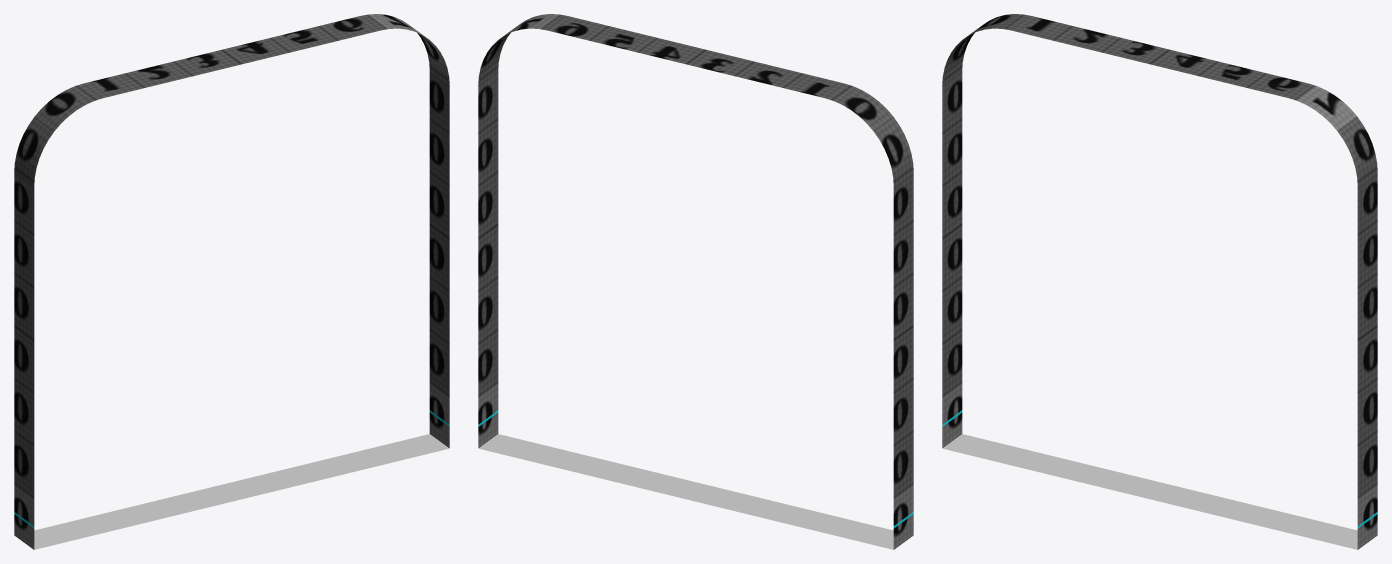
Rendered from WallFrameRound300x300x25cm.FBX.
The picture shows the model from 3 angles, left to right: view 1: azimuth 30°, elevation 25°; view 2: azimuth 150°, elevation 25°; view 3: azimuth 330°, elevation 25°; orthographic projection.
Parts seen in each view (by area): view 1: WallFrameRound300x25cm; view 2: WallFrameRound300x25cm; view 3: WallFrameRound300x25cm.
Boxes of the visible parts, x1,y1,x2,y2 form: WallFrameRound300x25cm: (14, 14, 449, 549); WallFrameRound300x25cm: (478, 14, 913, 549); WallFrameRound300x25cm: (942, 14, 1377, 549).
Size of the model in its own units: 300 by 300 by 25.
